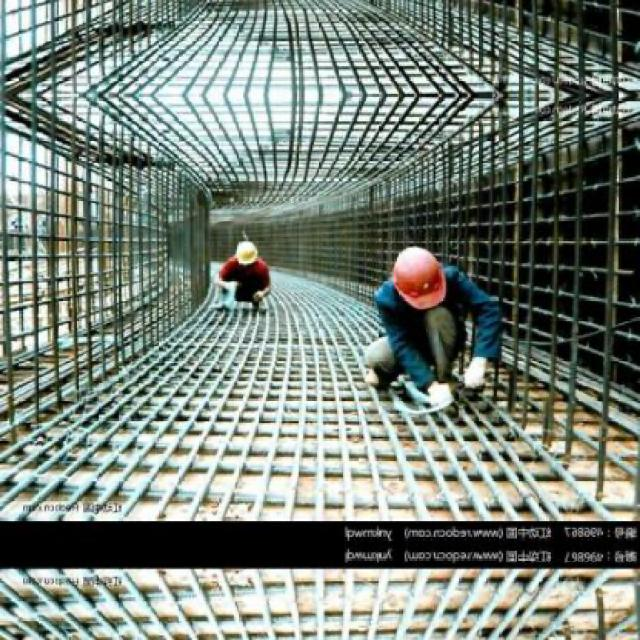helmet: (388, 238, 450, 322), (235, 239, 260, 266)
